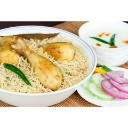briyani: (1, 28, 89, 89)
